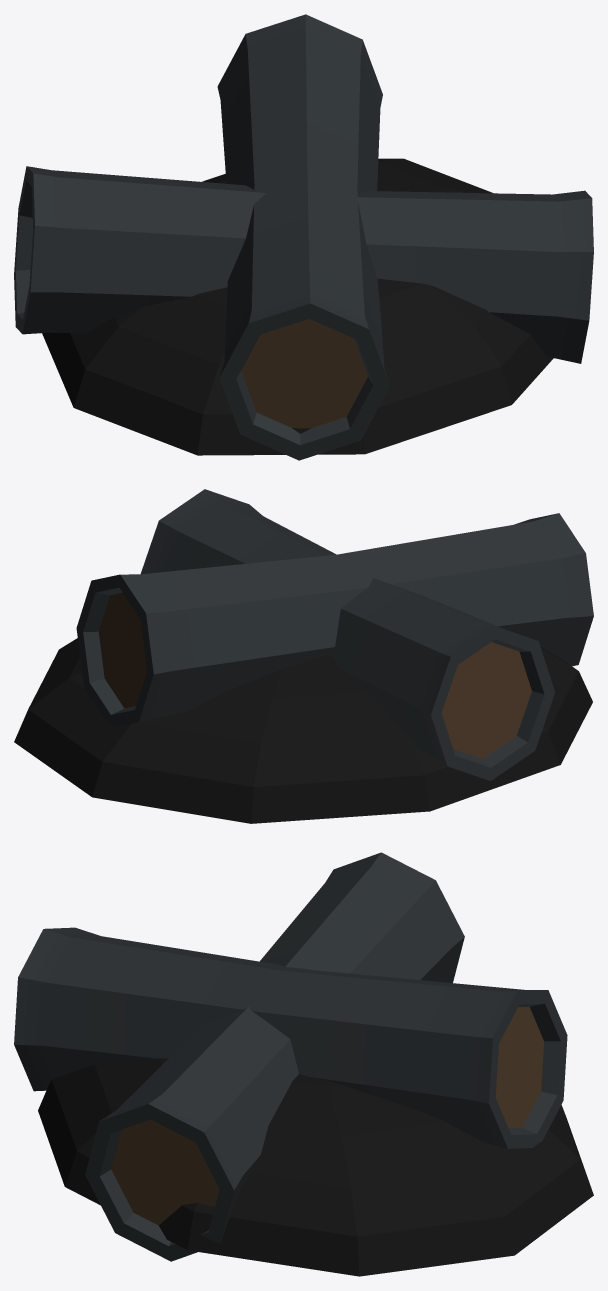
Rendered from Geo_CampfireDead.fbx.
3 views of the same model, one above another, from view 1: azimuth 30°, elevation 25°; view 2: azimuth 150°, elevation 25°; view 3: azimuth 270°, elevation 25° (orthographic). The views are drawn at different scales.
Visible parts, largest first — view 1: Campfire_Lit2; view 2: Campfire_Lit2; view 3: Campfire_Lit2.
Boxes of the visible parts, box(x1,y1,x2,y2) form: Campfire_Lit2: box(14, 14, 593, 460); Campfire_Lit2: box(14, 489, 593, 823); Campfire_Lit2: box(14, 852, 593, 1276).
Bounding box in the file's own units: 47.42 × 19.67 × 45.42.
